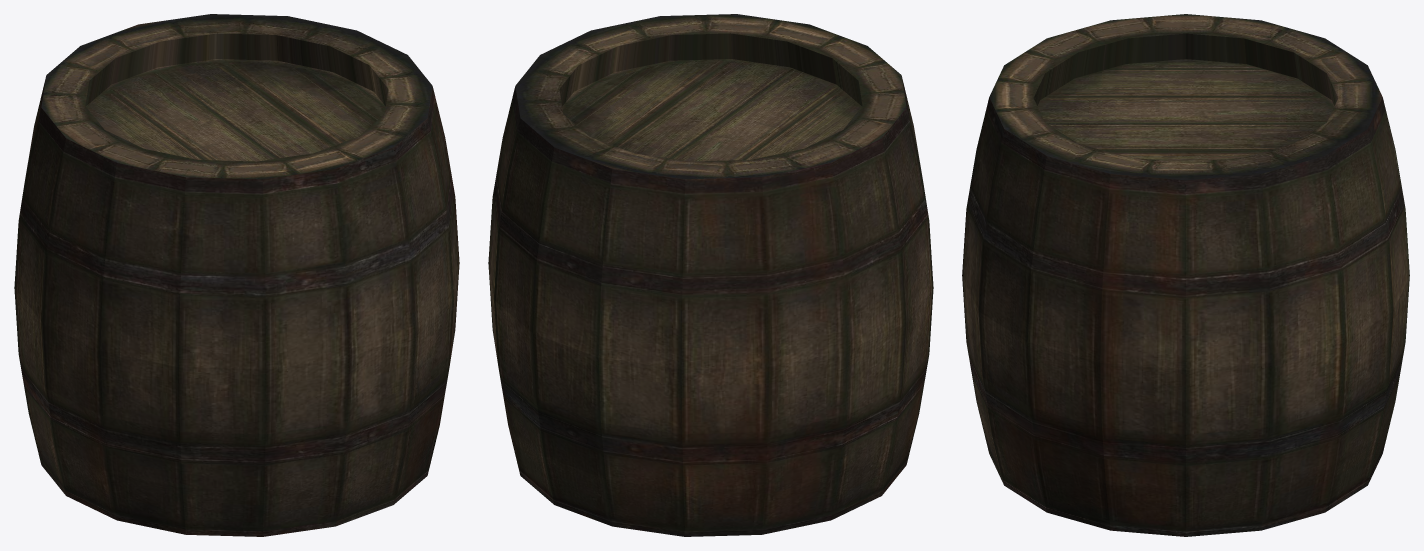
File: barril_v2.fbx
3 views of the same model, side by side, from view 1: azimuth 30°, elevation 25°; view 2: azimuth 150°, elevation 25°; view 3: azimuth 270°, elevation 25° (orthographic).
Visible parts, largest first — view 1: Cylinder; view 2: Cylinder; view 3: Cylinder.
Boxes of the visible parts, x1,y1,x2,y2 form: Cylinder: (14, 14, 459, 536); Cylinder: (488, 14, 933, 536); Cylinder: (962, 14, 1409, 536).
Bounding box in the file's own units: 225 × 198 × 225.
Materials: 1 (1 with a texture image).
